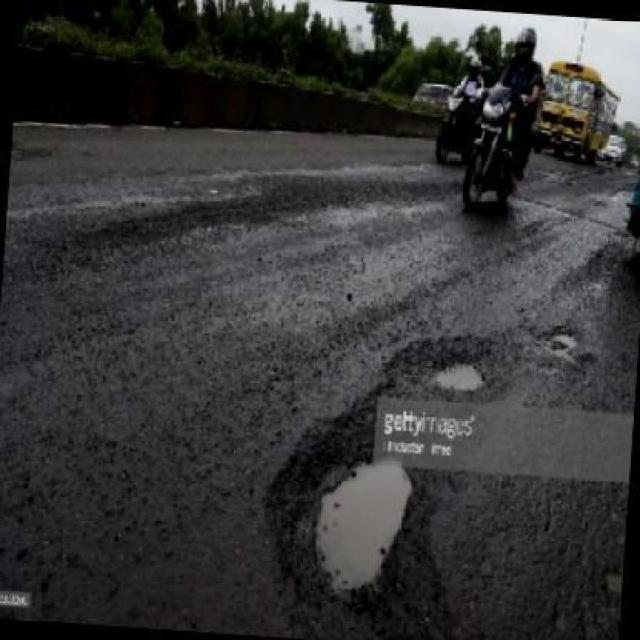pothole: (268, 335, 514, 640)
